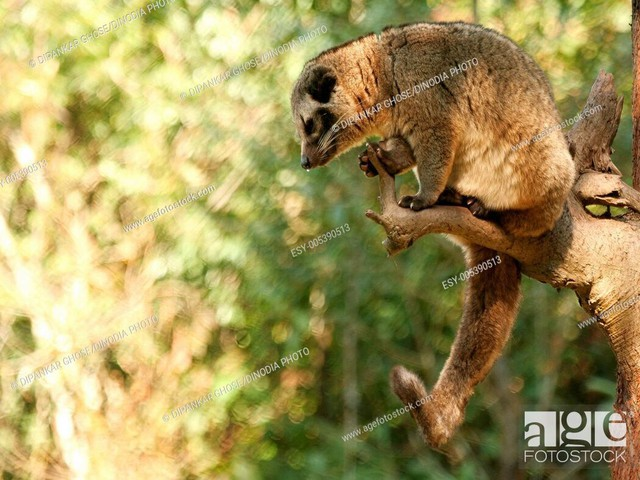civet: (288, 20, 575, 240)
